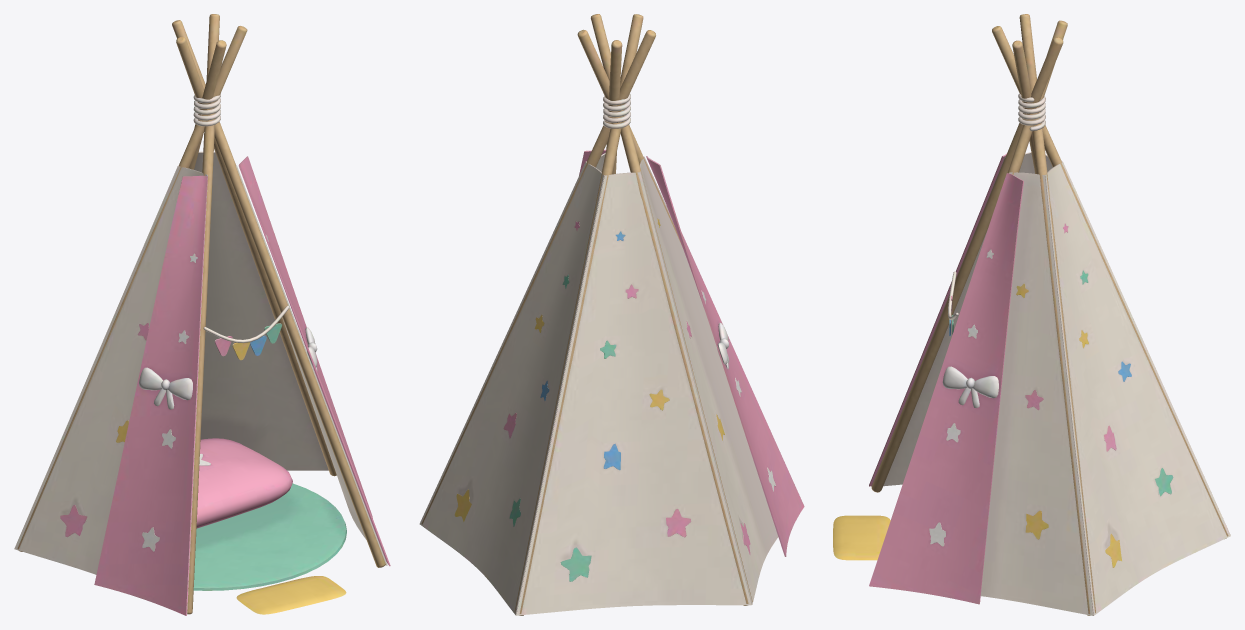
Rendered from tipi.glb.
3 views of the same model, side by side, from view 1: azimuth 30°, elevation 25°; view 2: azimuth 150°, elevation 25°; view 3: azimuth 270°, elevation 25° (orthographic). The views are drawn at different scales.
Parts seen in each view (by area): view 1: play-tent_body; view 2: play-tent_body; view 3: play-tent_body.
Part boxes in pixels (left/top/right/bottom): play-tent_body: left=14, top=14, right=390, bottom=615; play-tent_body: left=419, top=14, right=804, bottom=615; play-tent_body: left=833, top=14, right=1230, bottom=615.
Bounding box in the file's own units: 1.18 × 1.75 × 1.24.
1 material, 1 textured.
